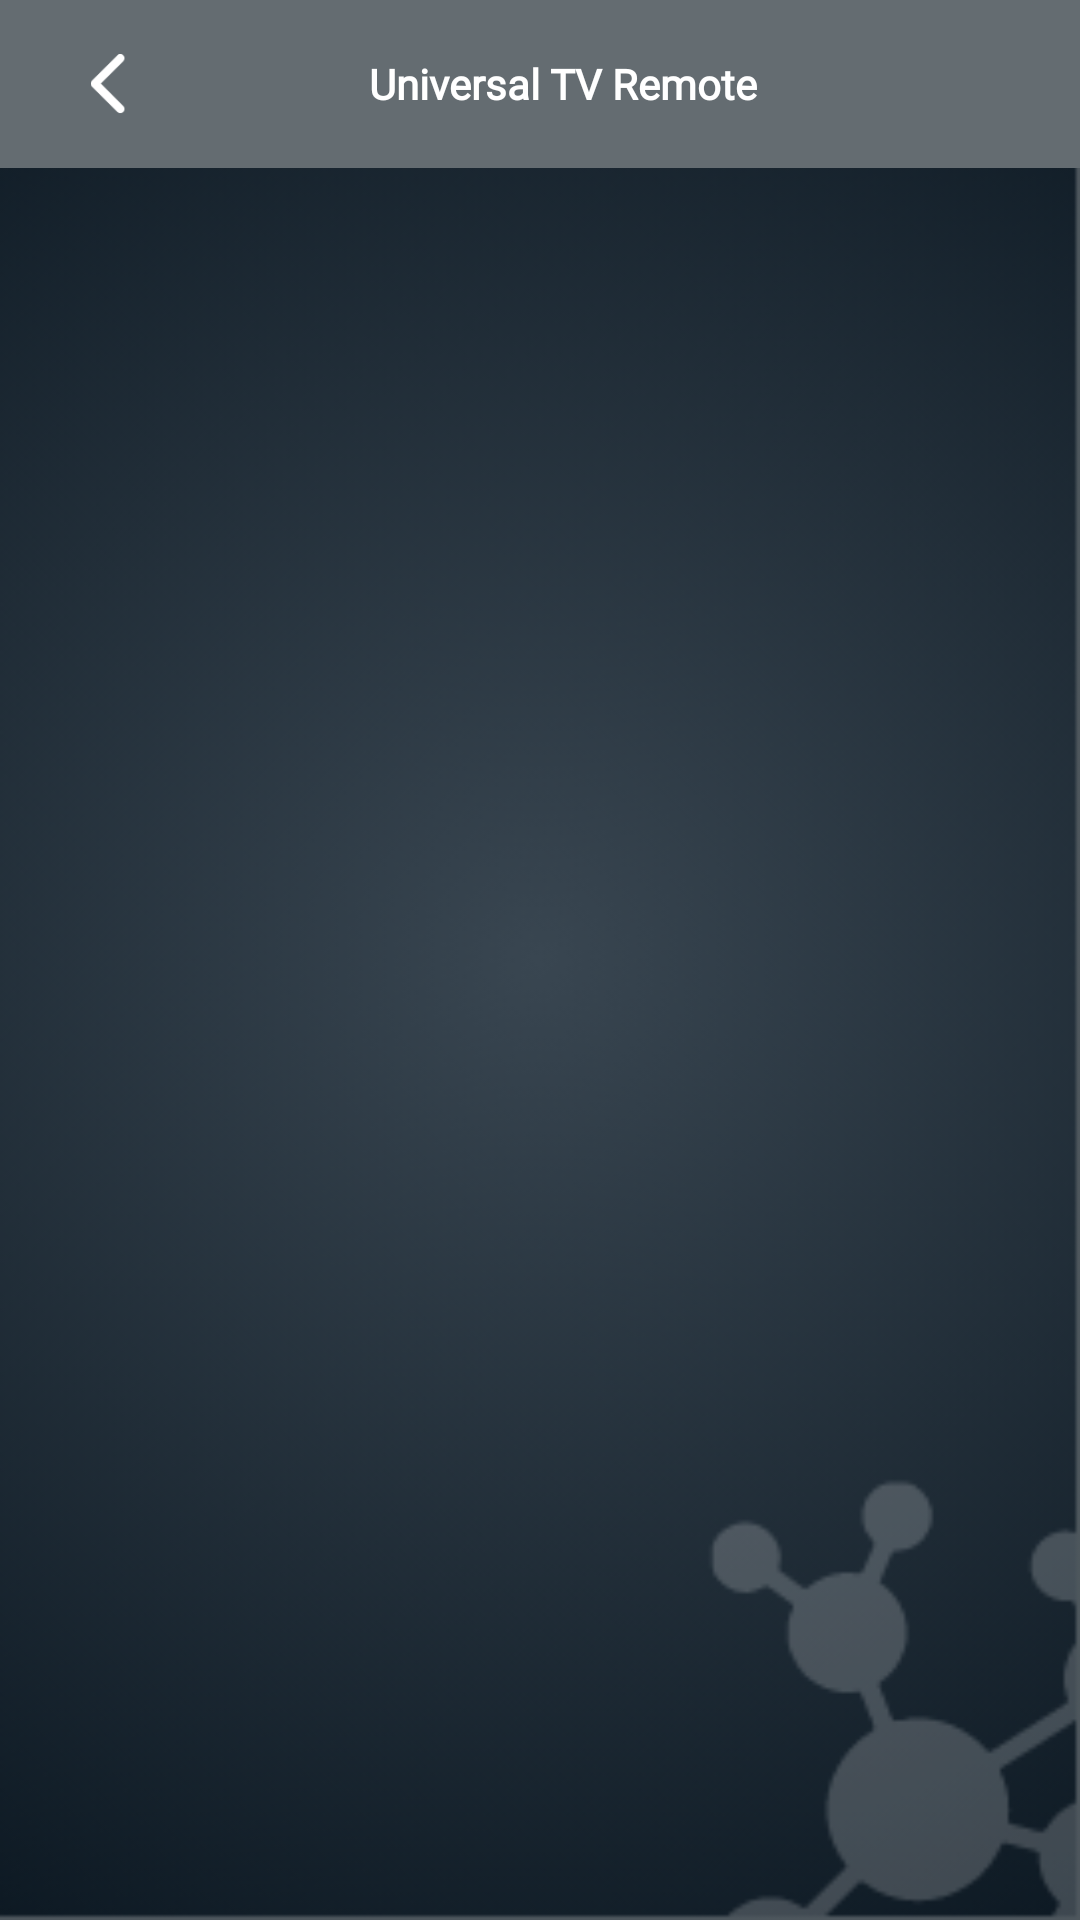

Where icons sit on this 1080*1920 app screen, as {"left": x1, "top": y1, "right": x2, "bottom": y2}:
backk: {"left": 91, "top": 54, "right": 125, "bottom": 113}
